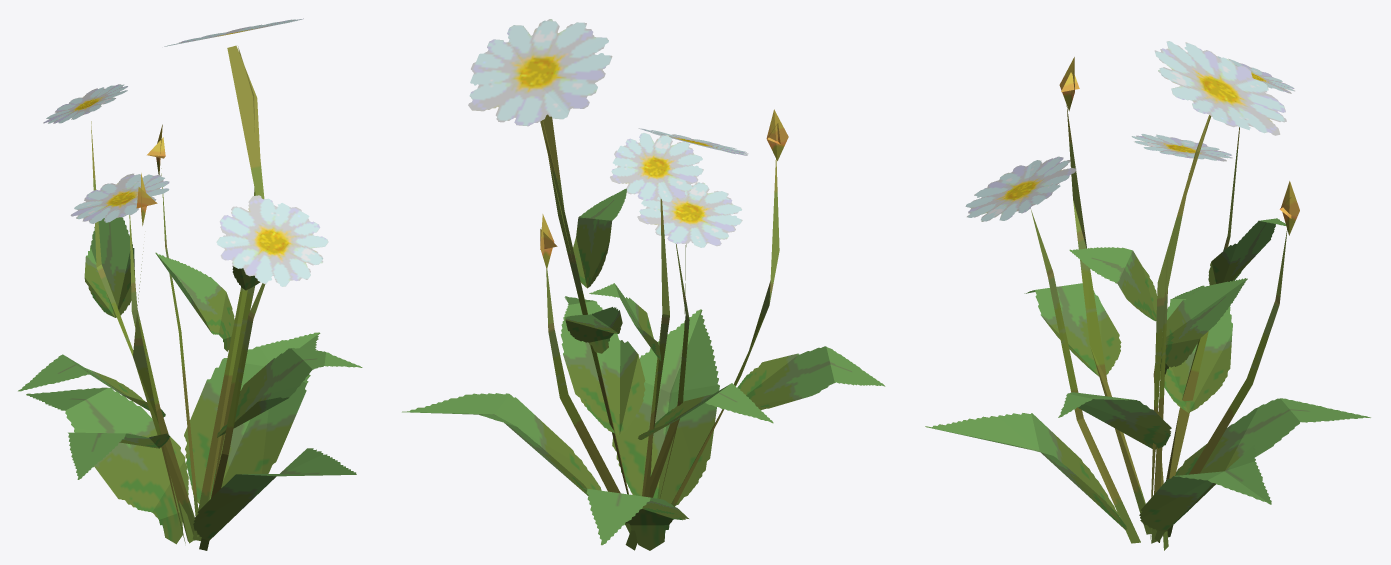
File: gi-Flower_White_01.glb
3 renders of one model, left to right at view 1: azimuth 30°, elevation 25°; view 2: azimuth 150°, elevation 25°; view 3: azimuth 270°, elevation 25°, orthographic. The views are drawn at different scales.
Parts seen in each view (by area): view 1: gi-Flower_White_01; view 2: gi-Flower_White_01; view 3: gi-Flower_White_01.
Boxes of the visible parts, <box> form: gi-Flower_White_01: <box>18,18,362,550</box>; gi-Flower_White_01: <box>402,19,885,550</box>; gi-Flower_White_01: <box>925,41,1370,550</box>.
Size of the model in its own units: 0.3781 by 0.5066 by 0.3927.
1 material, 1 textured.
